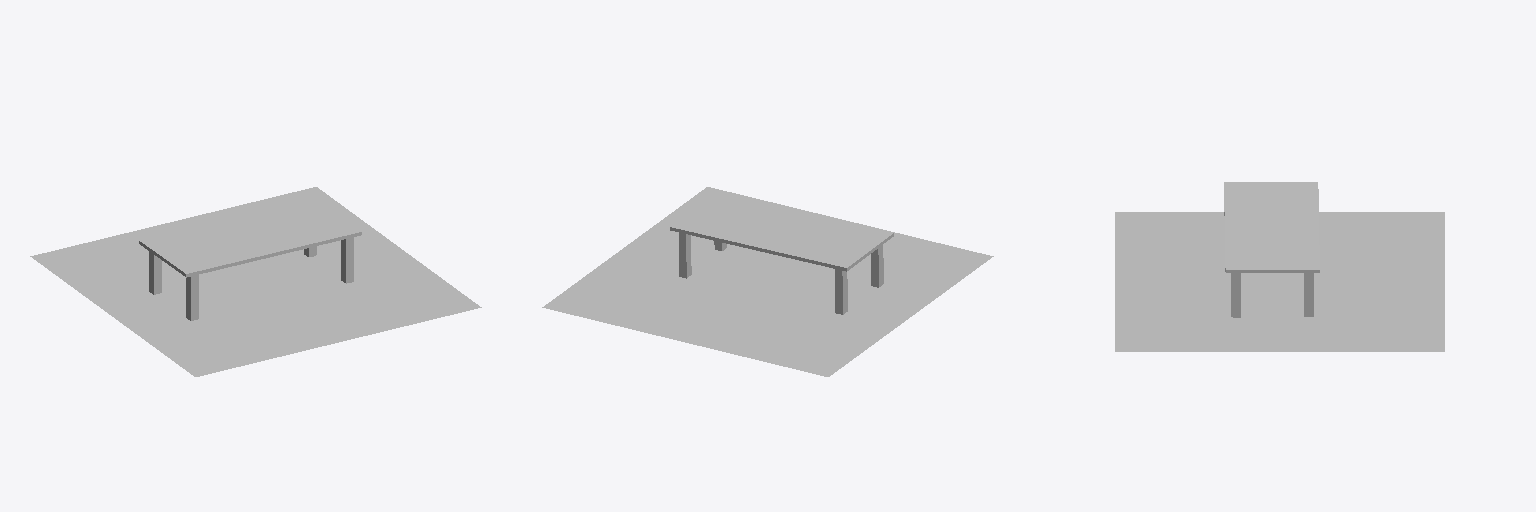
File: basictable.obj
3 renders of one model, left to right at view 1: azimuth 30°, elevation 25°; view 2: azimuth 150°, elevation 25°; view 3: azimuth 270°, elevation 25°, orthographic.
Visible parts, largest first — view 1: Plane, Cube.002_Cube.000; view 2: Plane, Cube.002_Cube.000; view 3: Plane, Cube.002_Cube.000.
Part boxes in pixels (left/top/right/bottom): Plane: left=30, top=187, right=481, bottom=376; Cube.002_Cube.000: left=139, top=198, right=361, bottom=320; Plane: left=542, top=187, right=993, bottom=376; Cube.002_Cube.000: left=670, top=192, right=893, bottom=314; Plane: left=1115, top=212, right=1444, bottom=351; Cube.002_Cube.000: left=1224, top=182, right=1319, bottom=317.
Size of the model in its own units: 9.84 by 1.72 by 9.84.